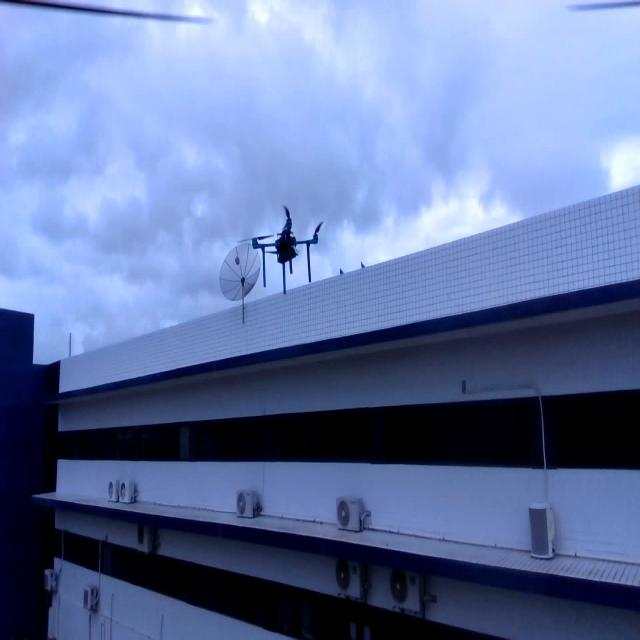-uav-: (238, 202, 332, 300)
